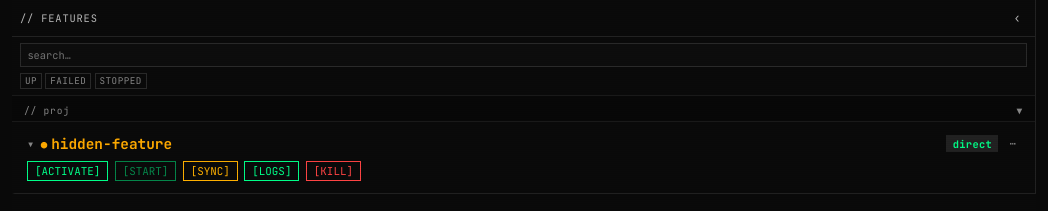
FeatureList — collapsible sidebar › hides the feature list after clicking the collapse toggle
Click the button named "Collapse sidebar" at (1017, 18), box [1007, 8, 1027, 28]
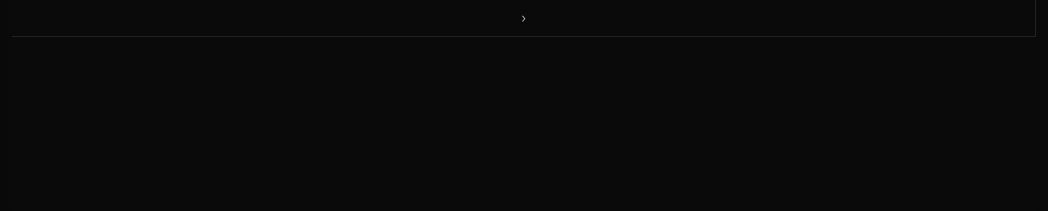
Now the text "hidden-feature" is gone
